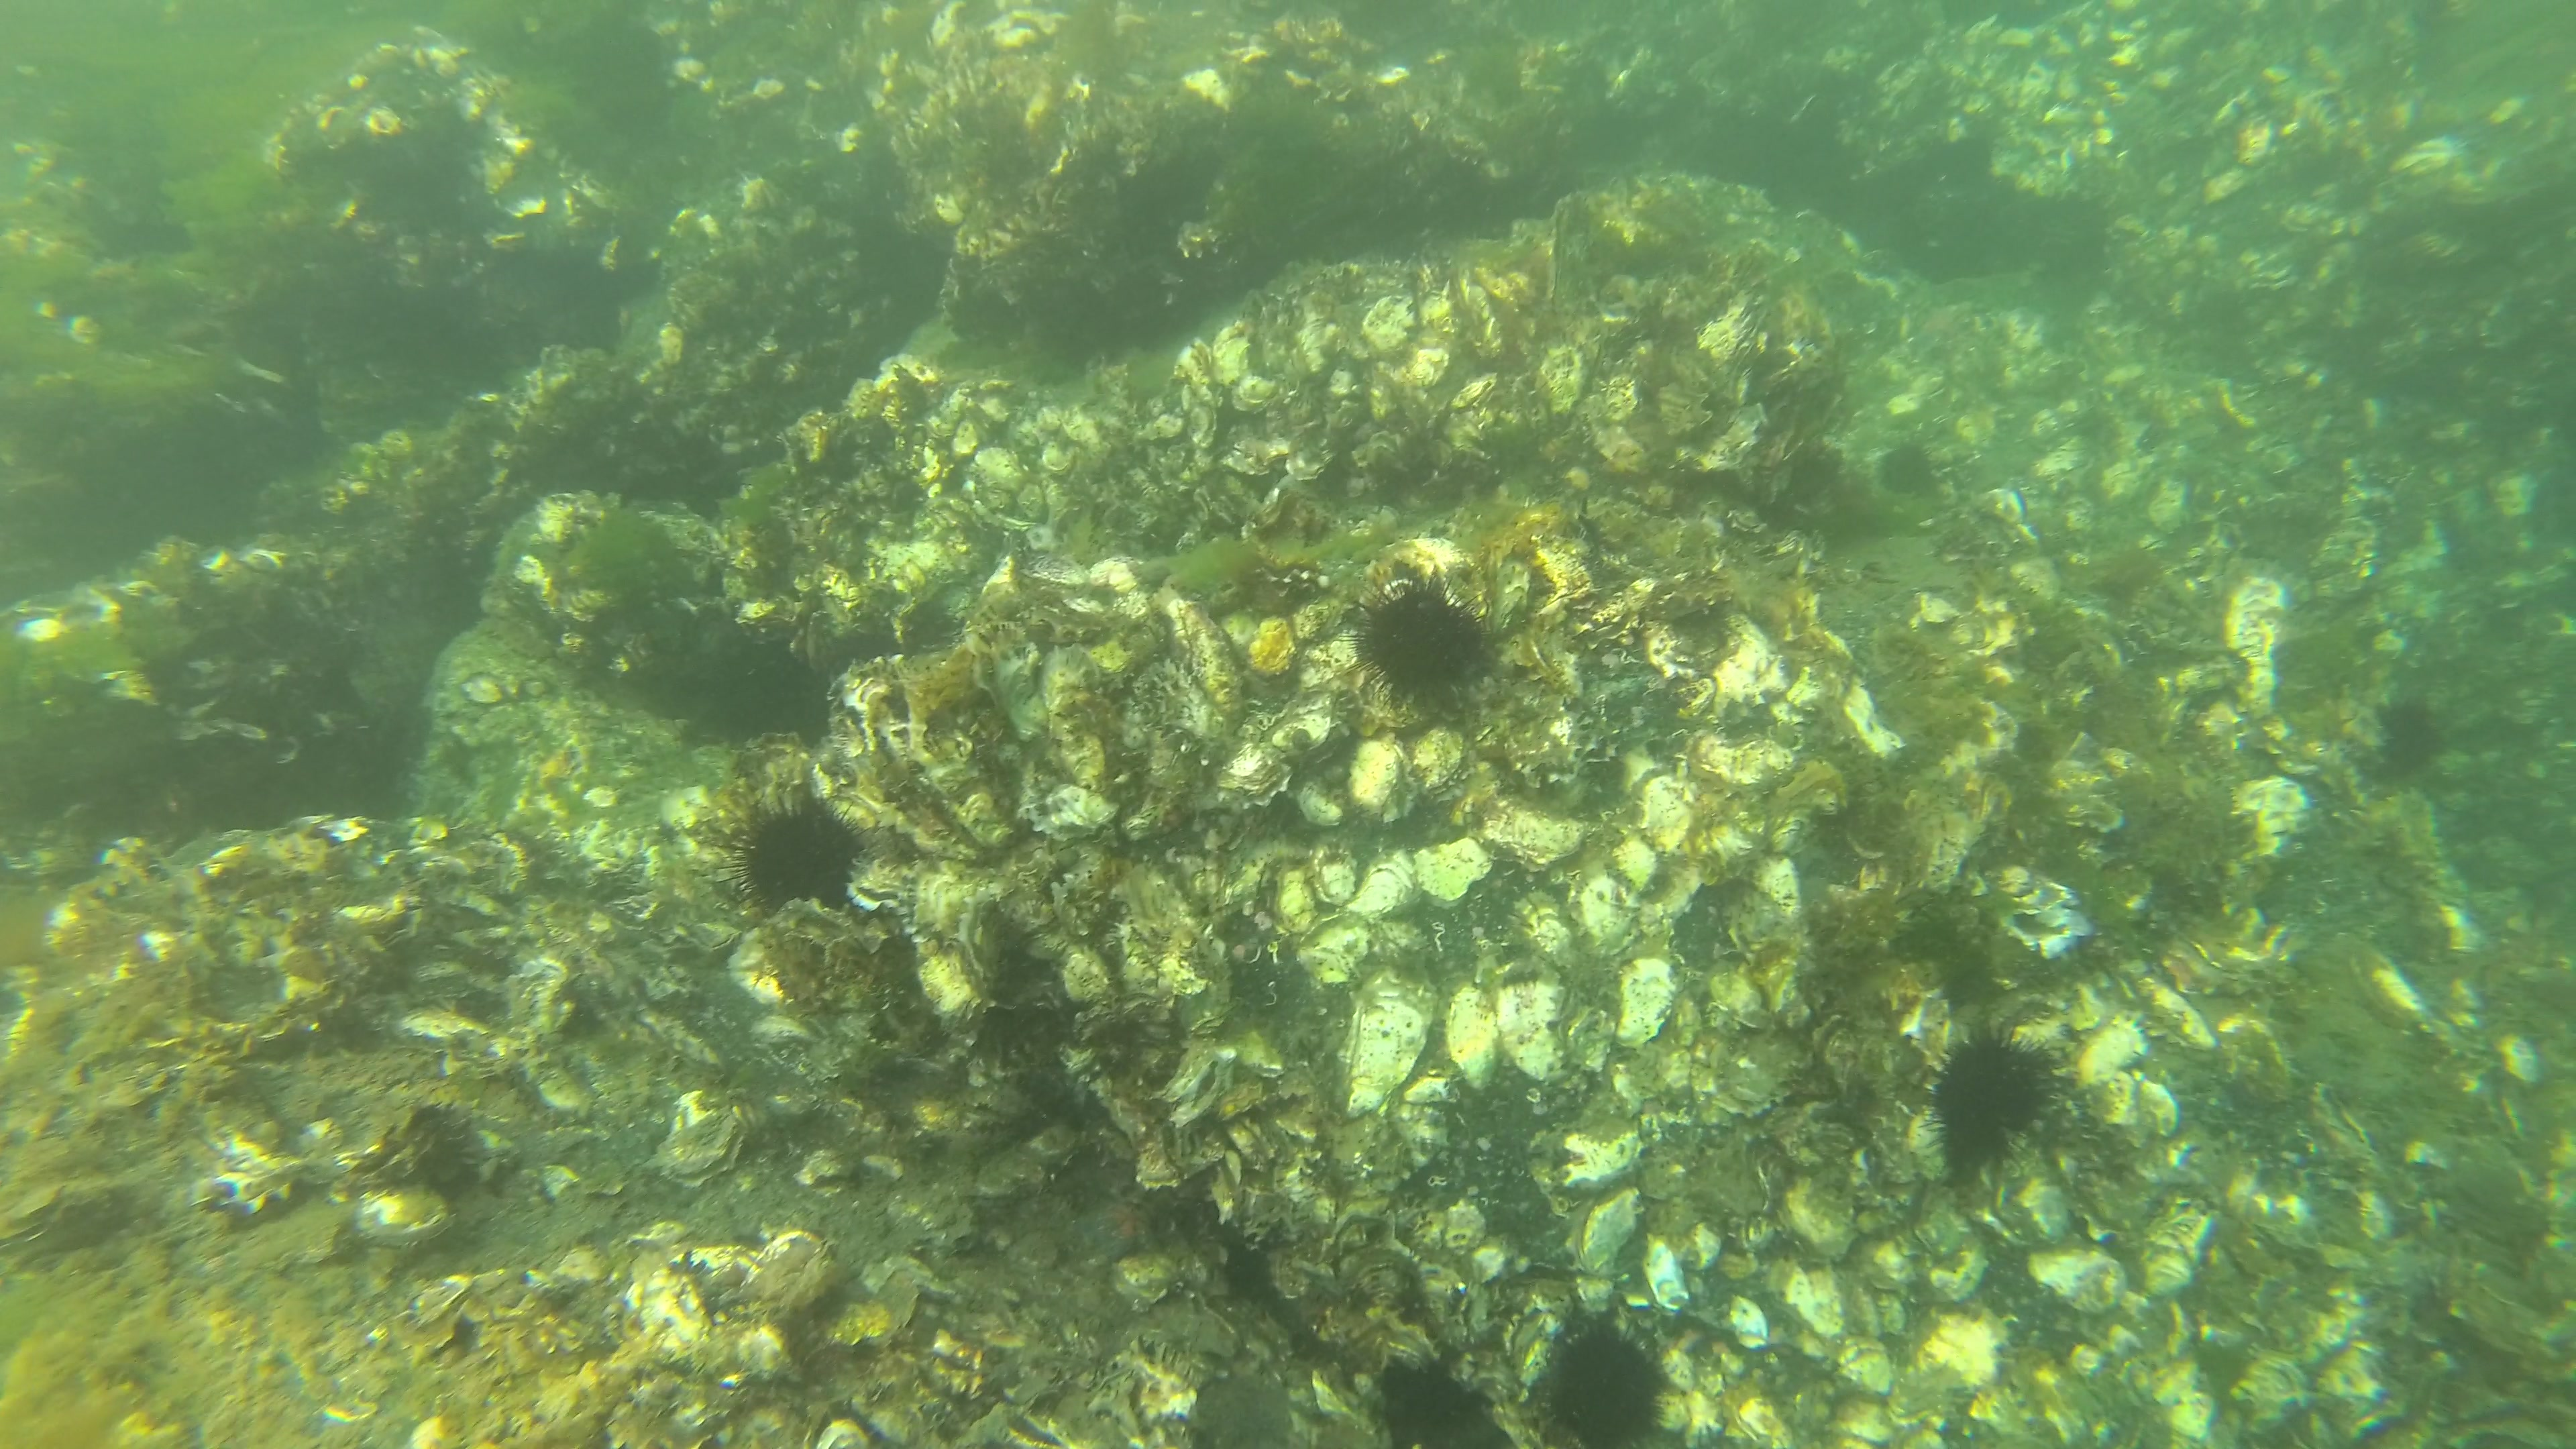echinus: (1932, 1035, 2052, 1184), (1350, 582, 1490, 709), (731, 800, 867, 922), (1546, 1330, 1668, 1449), (2365, 699, 2450, 780)
starfish: (1079, 1194, 1164, 1256)
